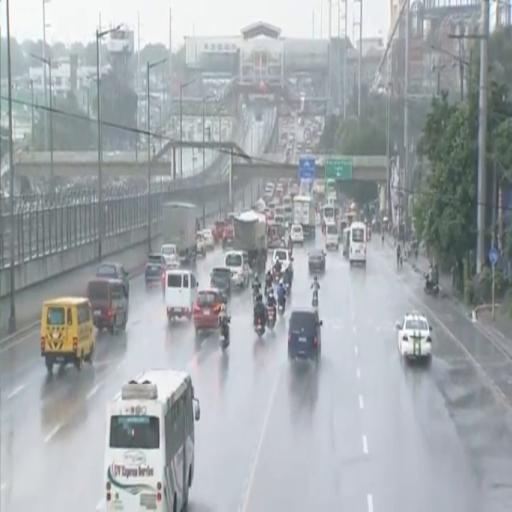bus: (105, 370, 200, 511), (349, 221, 366, 266), (322, 204, 339, 221), (322, 204, 335, 222)
car: (288, 307, 322, 364), (396, 312, 432, 362), (193, 288, 224, 333), (96, 262, 129, 296), (225, 251, 250, 287), (145, 253, 166, 285), (210, 267, 231, 297), (272, 249, 293, 273), (308, 247, 326, 272), (160, 243, 179, 264), (196, 232, 206, 257), (291, 224, 303, 244), (203, 229, 214, 249)
motorcycle: (220, 316, 230, 349), (424, 279, 439, 296), (267, 306, 276, 330), (255, 318, 264, 338), (278, 299, 285, 315), (312, 290, 318, 308), (253, 287, 260, 302), (274, 270, 281, 282), (265, 284, 272, 296), (285, 282, 291, 296)
truck: (162, 202, 196, 264), (234, 211, 267, 267), (293, 196, 315, 238)
